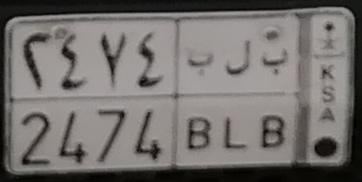2: (19, 30, 53, 168)
4: (58, 32, 89, 165), (133, 29, 164, 162)
7: (96, 31, 129, 164)
B: (186, 50, 217, 152), (259, 47, 289, 149)
L: (224, 39, 251, 149)
